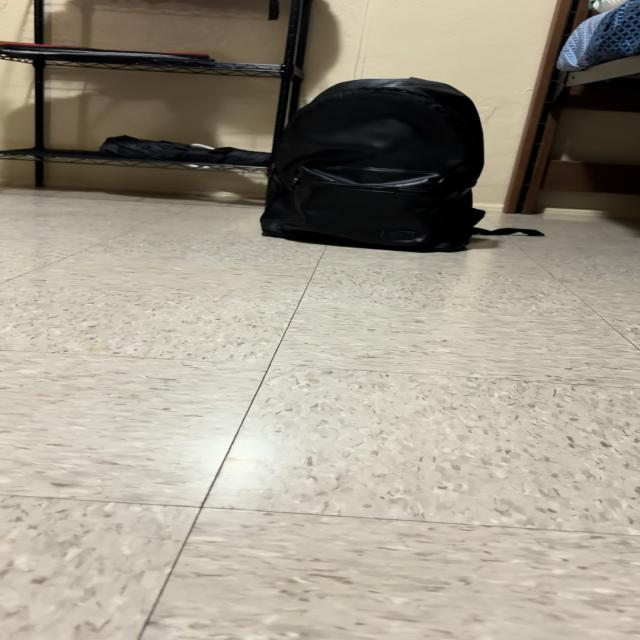backpack: (261, 78, 514, 251), (523, 231, 541, 234)
